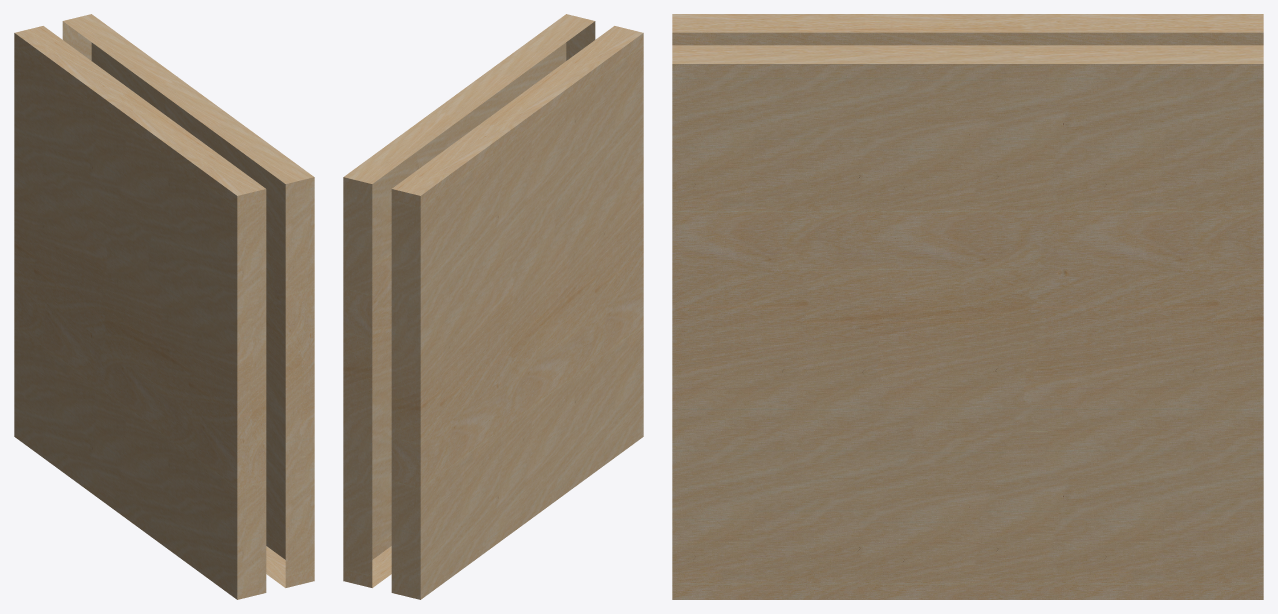
Rendered from simple wall 2x2x04 wood.fbx.
3 renders of one model, left to right at view 1: azimuth 30°, elevation 25°; view 2: azimuth 150°, elevation 25°; view 3: azimuth 270°, elevation 25°, orthographic. The views are drawn at different scales.
Parts seen in each view (by area): view 1: Cube; view 2: Cube; view 3: Cube.
Boxes of the visible parts, <box> form: Cube: <box>14,14,314,599</box>; Cube: <box>343,14,643,599</box>; Cube: <box>672,14,1263,599</box>.
Size of the model in its own units: 40 by 200 by 200.
